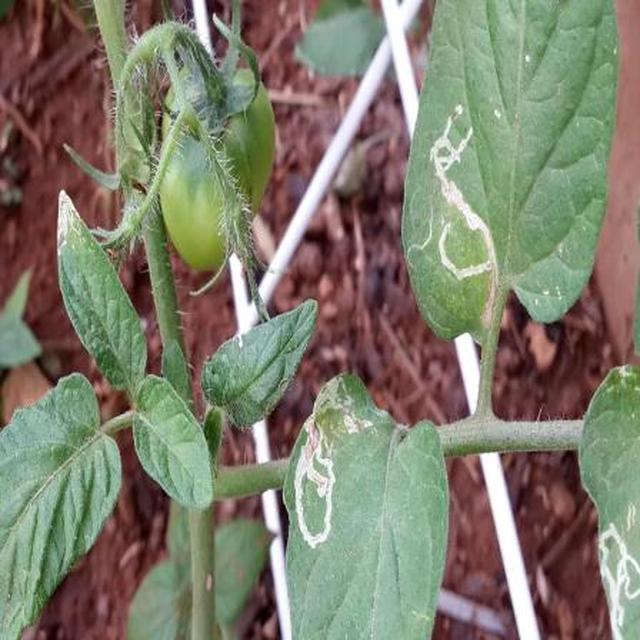Leaf Miner: (110, 208, 640, 640)
